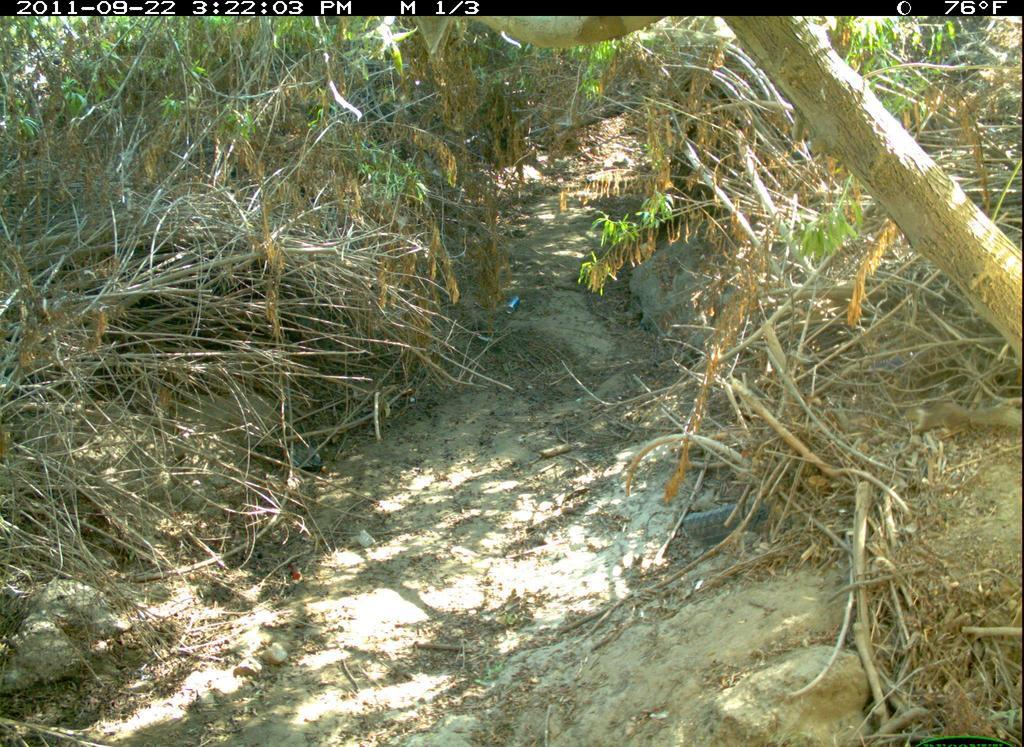squirrel: (904, 386, 1014, 454)
